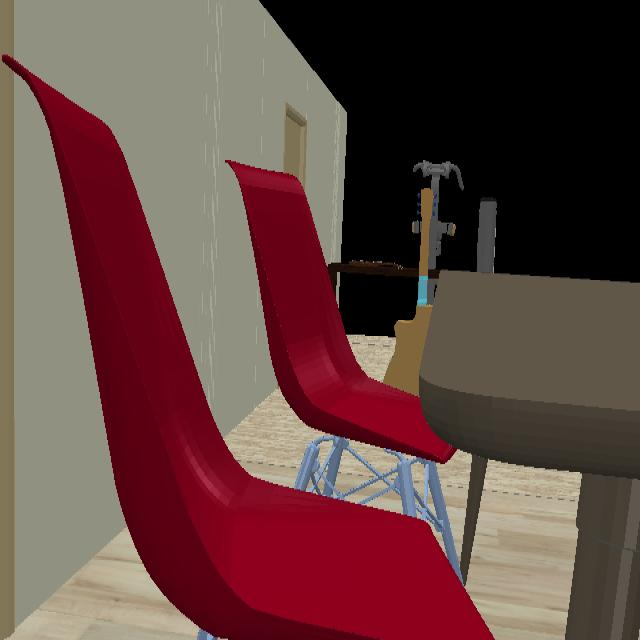chair: (5, 56, 495, 640)
table: (418, 271, 640, 640)
